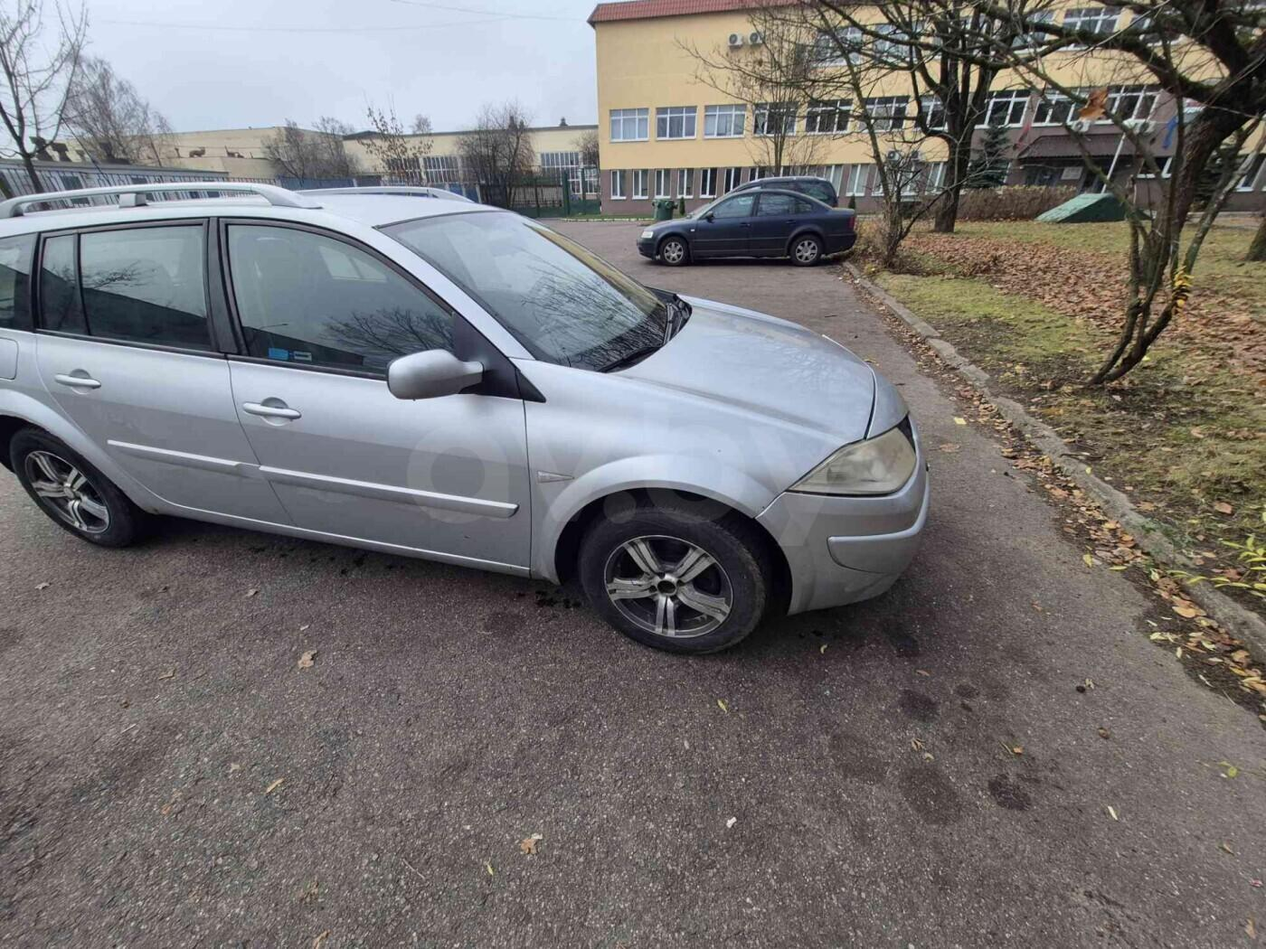Megane_2005-2009: (0, 181, 956, 658)
